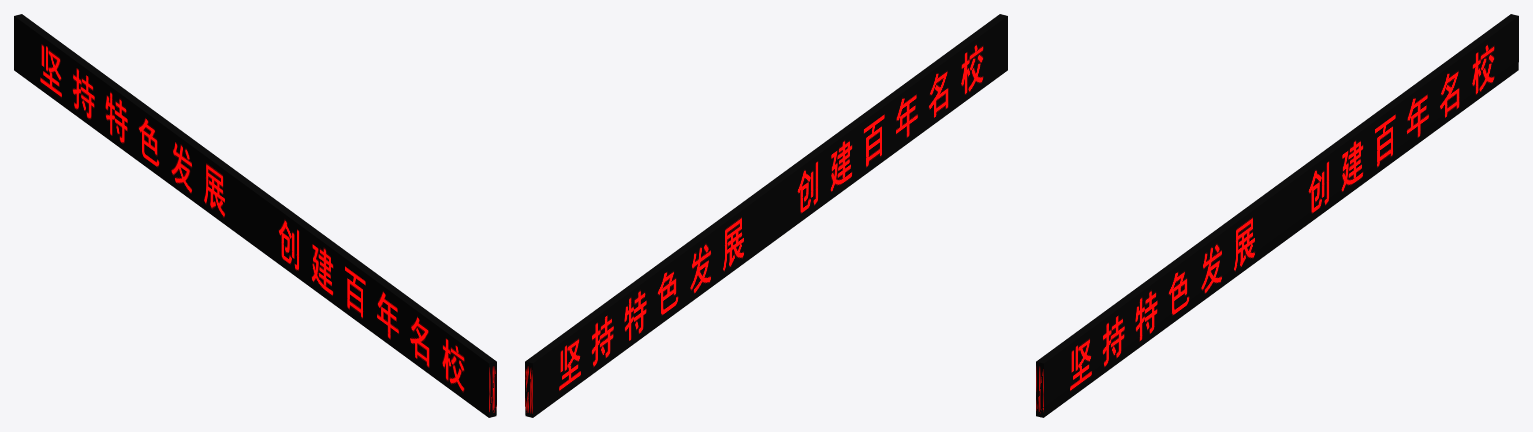
3 views of the same model, side by side, from view 1: azimuth 30°, elevation 25°; view 2: azimuth 150°, elevation 25°; view 3: azimuth 330°, elevation 25° (orthographic).
Parts seen in each view (by area): view 1: 室内-电子显示屏（非）; view 2: 室内-电子显示屏（非）; view 3: 室内-电子显示屏（非）.
Boxes of the visible parts, x1=… form: 室内-电子显示屏（非）: x1=14, y1=14, x2=496, y2=417; 室内-电子显示屏（非）: x1=525, y1=14, x2=1007, y2=417; 室内-电子显示屏（非）: x1=1036, y1=14, x2=1518, y2=417.
Bounding box in the file's own units: 0.152 × 1 × 15.8.
1 material, 1 textured.
